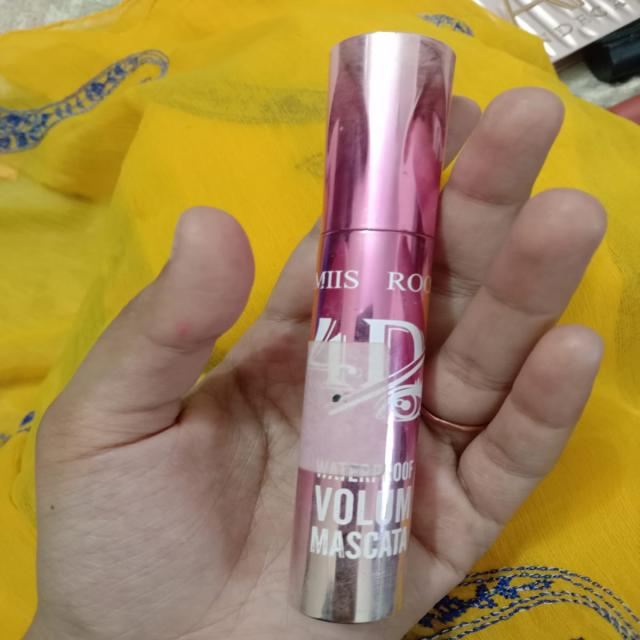highlighter: (283, 18, 487, 630)
